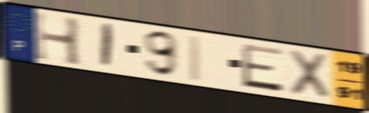9: (140, 30, 181, 78)
E: (240, 42, 285, 94)
H: (32, 9, 84, 68)
I: (187, 33, 204, 84), (98, 22, 116, 70)
X: (287, 47, 333, 102)
